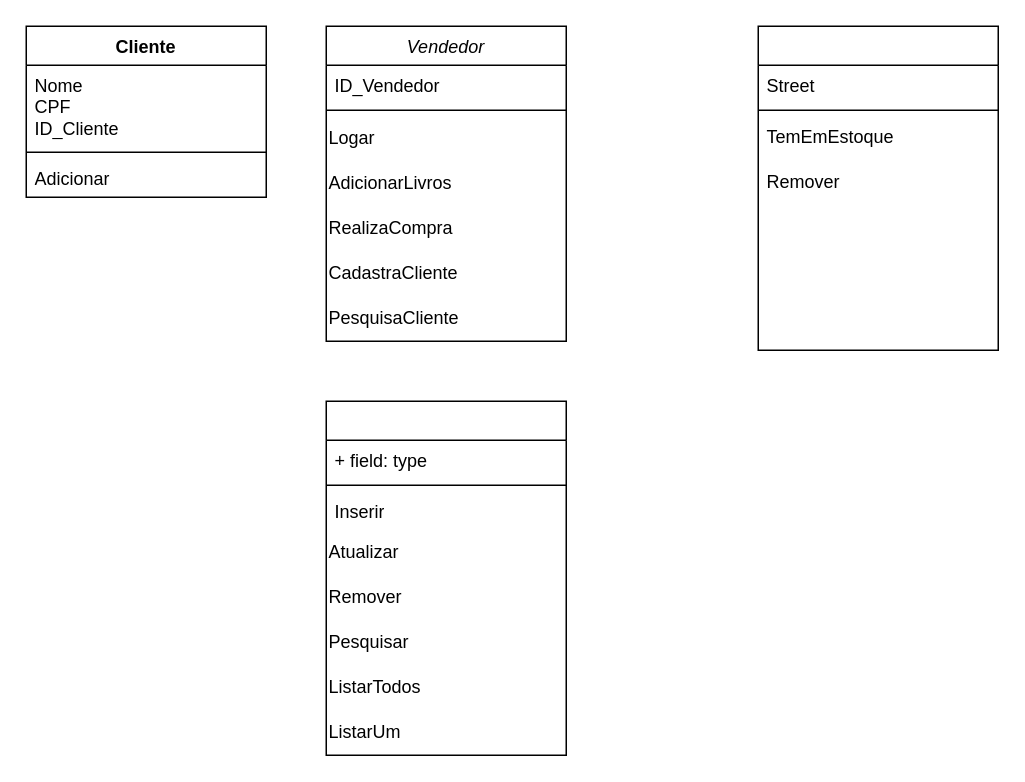
The diagram is 1025 pixels wide and 782 high, and some of its shapes have lost their labels. Here are the shapes that lost their labels. From the top down, the box of each, then its label:
(757, 25, 998, 350): Livro
(325, 400, 566, 755): Classname
